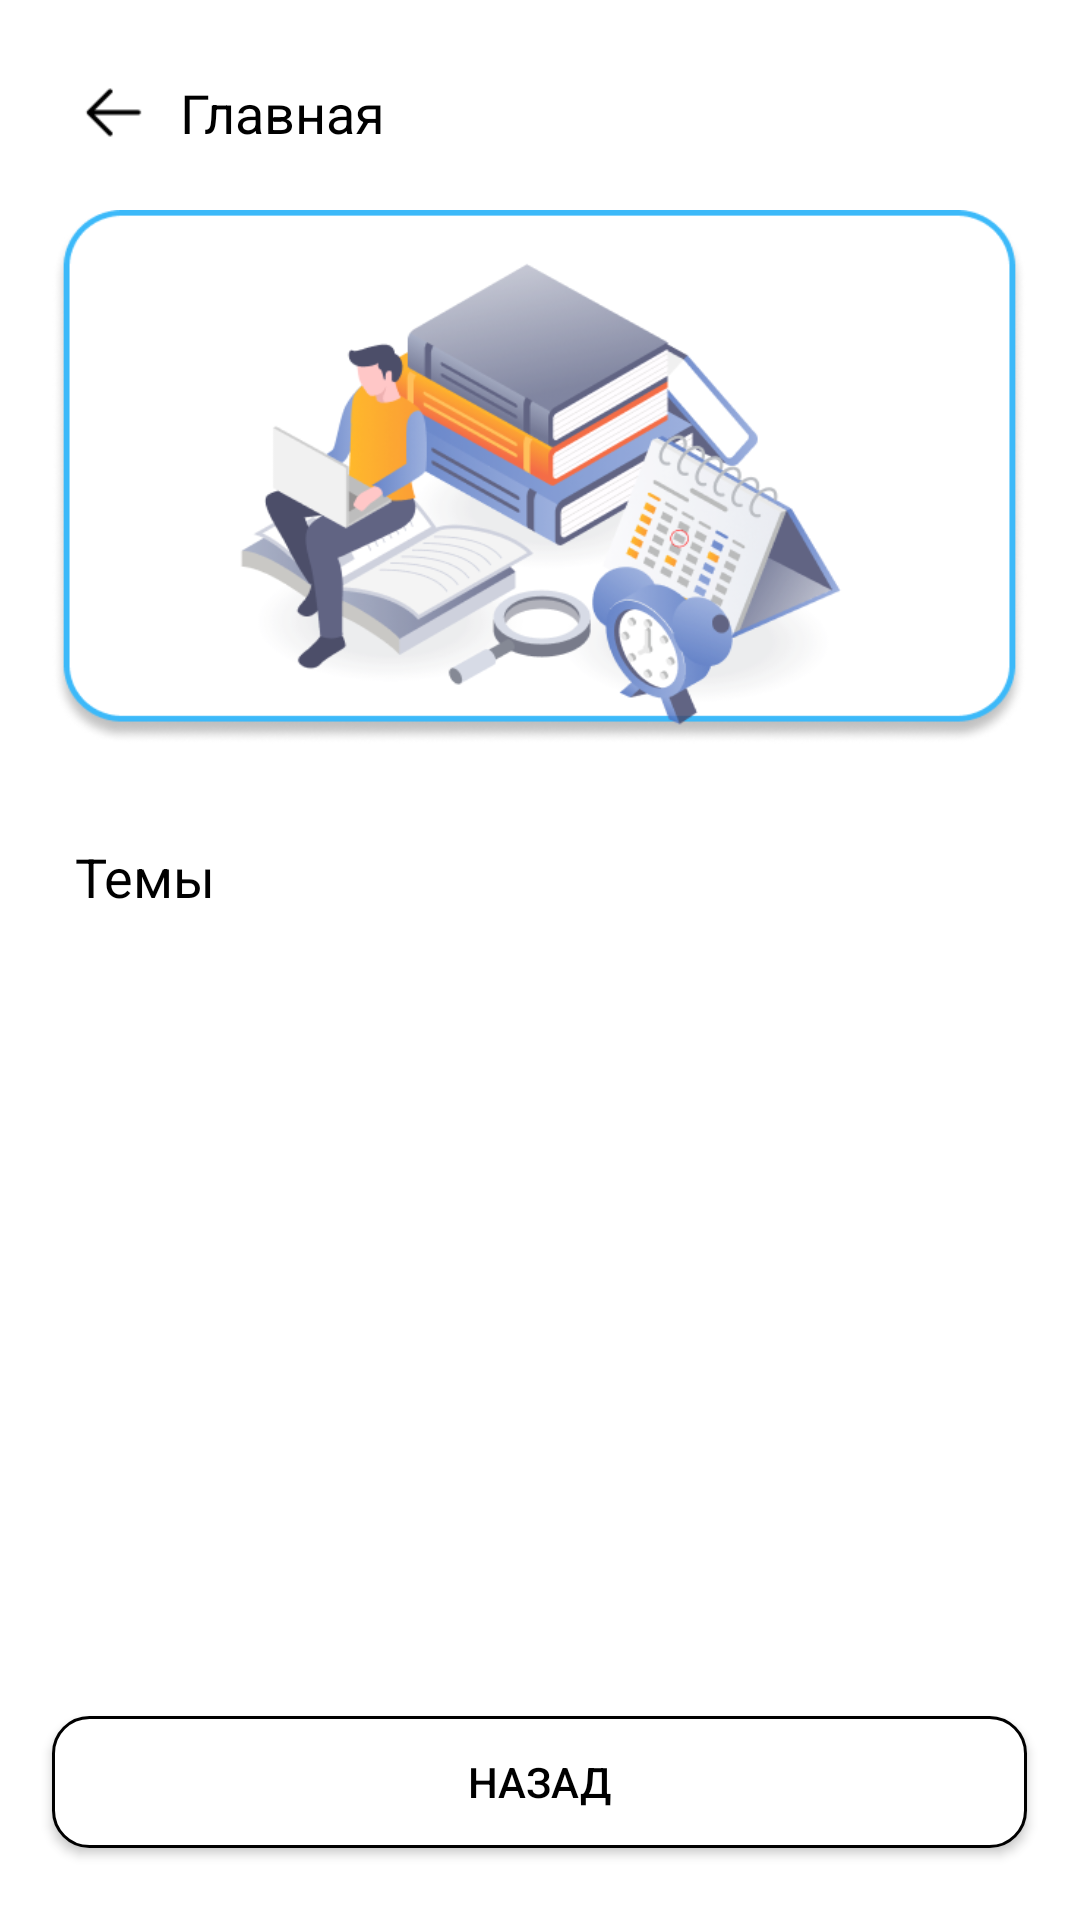

Icons on this 1080×1920 Android screen, each with its box as (x1, y1, x2, y2):
back: (86, 88, 142, 137)
